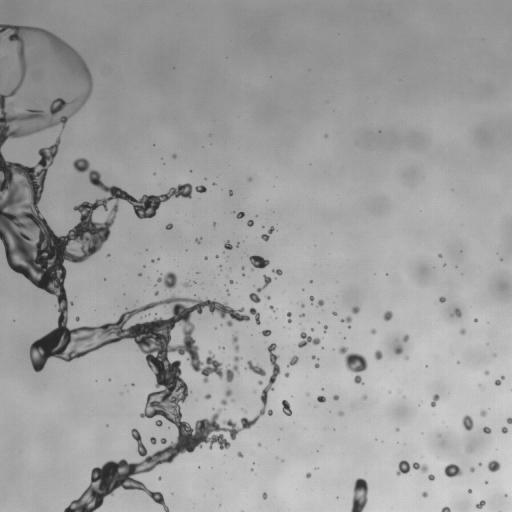droplet: (298, 330, 320, 348), (157, 272, 177, 290), (249, 255, 269, 269), (444, 464, 462, 477), (462, 415, 473, 430), (487, 460, 500, 472), (281, 400, 291, 415), (287, 355, 298, 367), (383, 310, 392, 321), (451, 308, 461, 317), (494, 376, 504, 385), (195, 185, 206, 193), (476, 500, 485, 509), (374, 350, 382, 360), (224, 241, 233, 249), (341, 316, 351, 323), (261, 329, 271, 336), (351, 306, 359, 314), (394, 346, 402, 354), (316, 395, 325, 402), (272, 269, 282, 275), (182, 280, 190, 287), (483, 426, 491, 433), (317, 299, 324, 306), (225, 389, 232, 396), (501, 426, 508, 433), (236, 212, 244, 218), (165, 223, 173, 229), (441, 506, 450, 511), (403, 334, 409, 341), (155, 420, 162, 426), (150, 437, 156, 444), (428, 474, 434, 481), (247, 220, 253, 226), (269, 305, 275, 311), (480, 410, 486, 416), (506, 417, 511, 424), (262, 492, 267, 499), (309, 296, 314, 302), (439, 297, 445, 302), (205, 394, 211, 399), (333, 394, 338, 400), (221, 399, 226, 405), (237, 451, 242, 457), (195, 238, 200, 243), (371, 329, 376, 334), (460, 329, 465, 334), (484, 370, 489, 375), (284, 372, 289, 377), (306, 473, 311, 478), (422, 492, 427, 497), (323, 325, 327, 331), (229, 190, 233, 195), (312, 355, 317, 359), (338, 411, 343, 415), (470, 467, 474, 472), (172, 154, 176, 158), (229, 280, 233, 284), (266, 295, 270, 299), (300, 313, 304, 317), (315, 363, 319, 367), (258, 380, 262, 384), (155, 291, 158, 295), (333, 311, 336, 315), (75, 317, 79, 320), (395, 428, 399, 431), (478, 462, 482, 465), (468, 489, 471, 493), (248, 178, 251, 181), (236, 243, 239, 246), (151, 259, 154, 262), (241, 266, 244, 269), (138, 273, 141, 276), (301, 304, 304, 307), (474, 318, 477, 321), (363, 396, 366, 399), (242, 409, 245, 412), (439, 254, 441, 257), (204, 257, 207, 259), (227, 291, 229, 294), (348, 325, 350, 328), (306, 393, 309, 395), (258, 443, 260, 446), (158, 477, 161, 479), (213, 183, 215, 185), (213, 223, 215, 225), (216, 255, 218, 257), (310, 280, 312, 282), (406, 356, 408, 358), (132, 383, 134, 385), (470, 448, 472, 450), (505, 494, 507, 496)
ligament: (0, 136, 277, 511), (0, 24, 92, 148), (339, 346, 367, 384), (249, 274, 272, 302), (350, 478, 368, 511), (396, 460, 428, 475), (225, 356, 241, 382), (245, 360, 266, 376), (261, 226, 274, 241), (430, 394, 439, 407), (232, 335, 239, 351), (287, 312, 291, 322), (0, 78, 2, 85)
